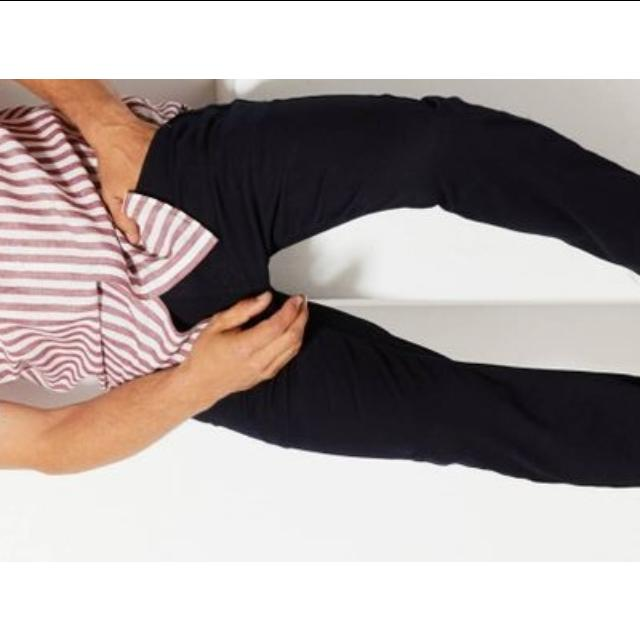linen: (0, 79, 182, 483)
